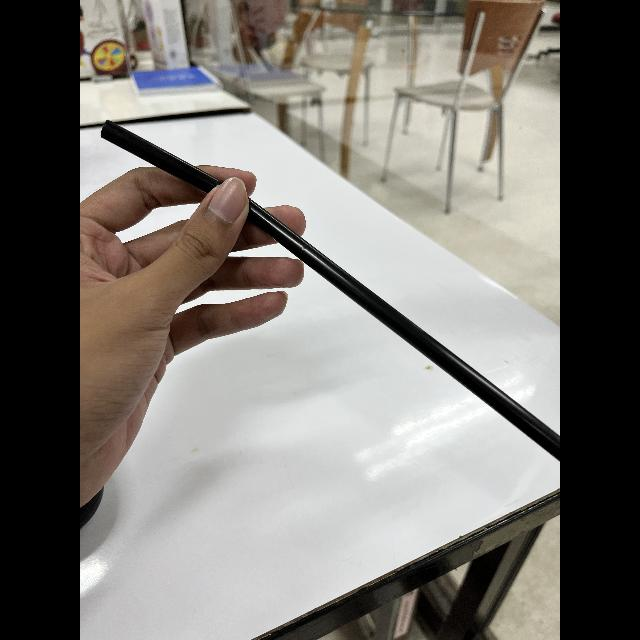straw: (100, 118, 560, 462)
